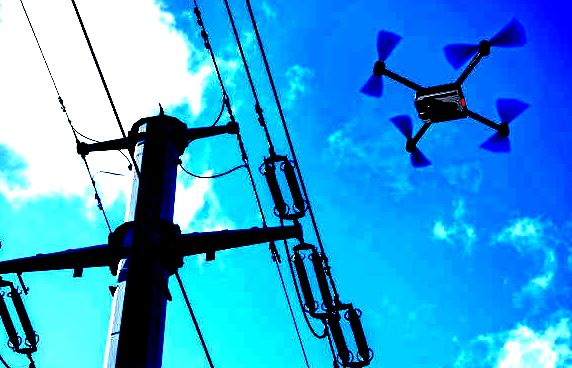Drone: (358, 17, 531, 169)
